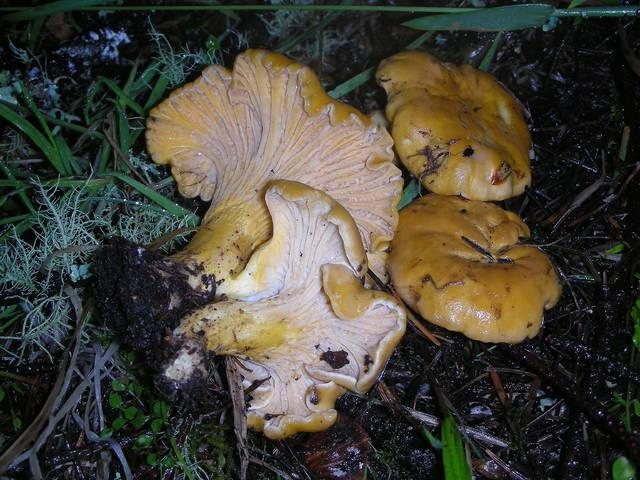Edible Mushroom: (168, 45, 399, 439), (385, 192, 562, 344), (374, 48, 534, 201)
